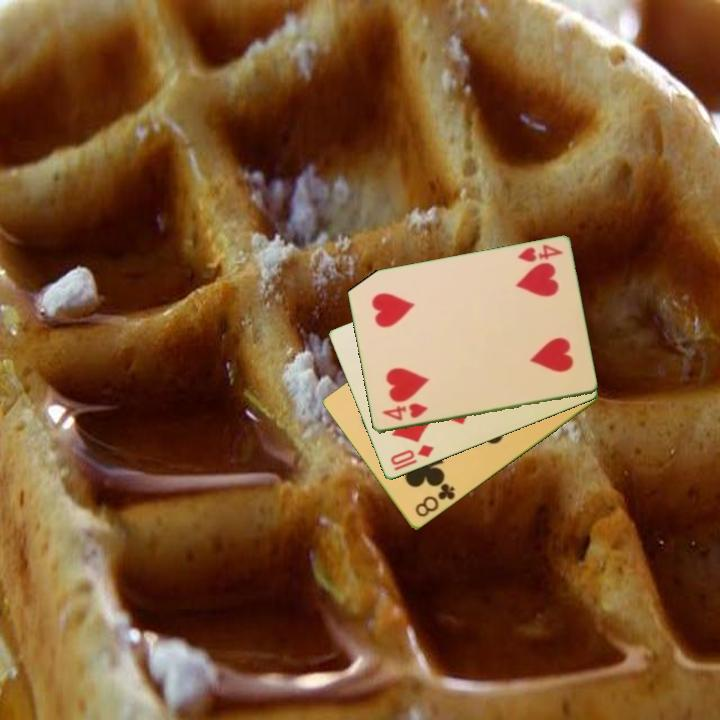10d: (387, 441, 437, 469)
4h: (378, 400, 430, 424), (514, 241, 565, 265)
8c: (411, 480, 458, 520)
